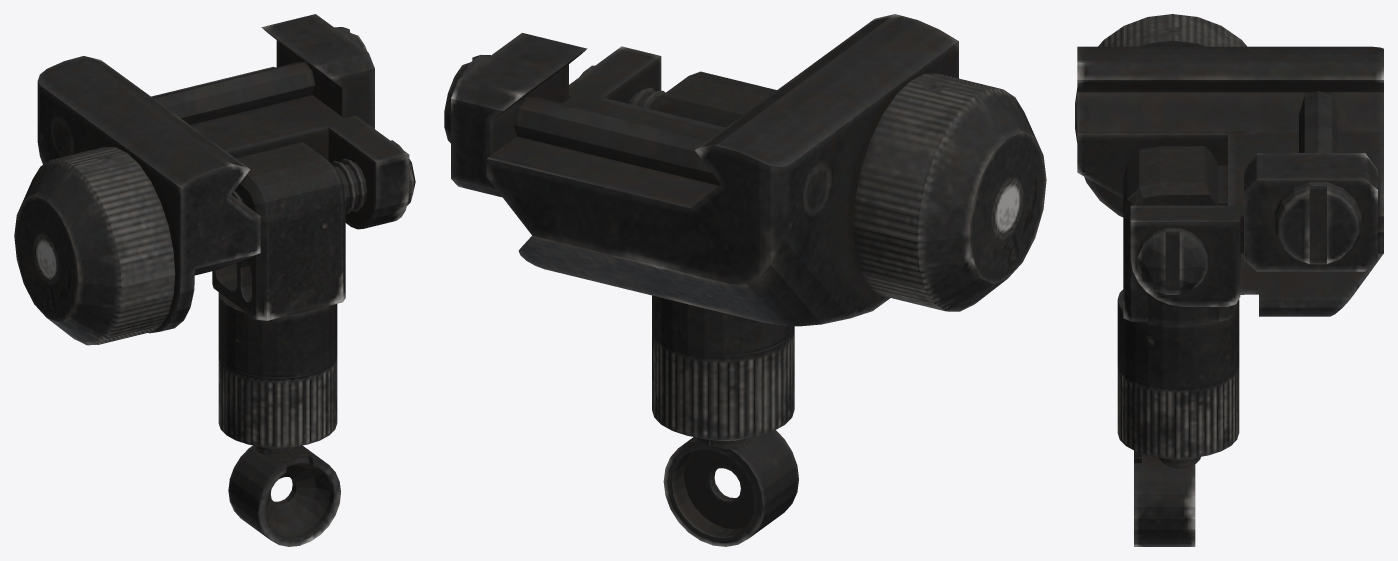
3 views of the same model, side by side, from view 1: azimuth 30°, elevation 25°; view 2: azimuth 150°, elevation 25°; view 3: azimuth 270°, elevation 25° (orthographic). The views are drawn at different scales.
Parts seen in each view (by area): view 1: TW_5c1780312e221602b66cc189_PZ_Import; view 2: TW_5c1780312e221602b66cc189_PZ_Import; view 3: TW_5c1780312e221602b66cc189_PZ_Import.
Part boxes in pixels (bbox=[...]): TW_5c1780312e221602b66cc189_PZ_Import: bbox=[14, 14, 415, 546]; TW_5c1780312e221602b66cc189_PZ_Import: bbox=[444, 14, 1046, 546]; TW_5c1780312e221602b66cc189_PZ_Import: bbox=[1075, 14, 1383, 546].
Bounding box in the file's own units: 0.0241 × 0.0166 × 0.0257.
Materials: 1 (1 with a texture image).
